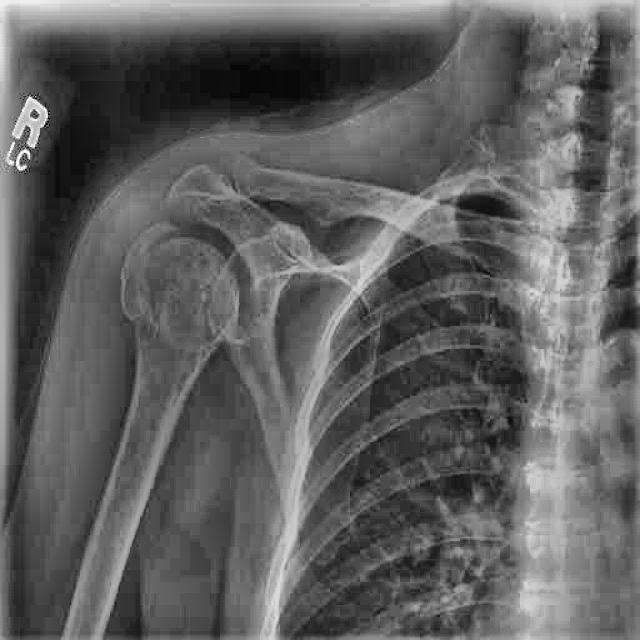shoulder fracture: (101, 204, 223, 295)
